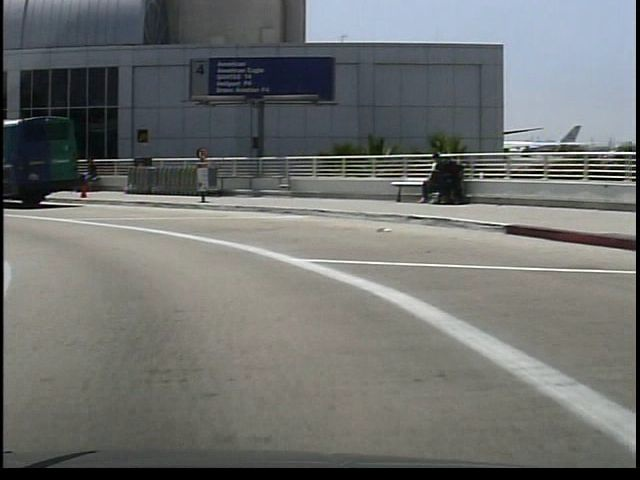person: (79, 154, 100, 197)
